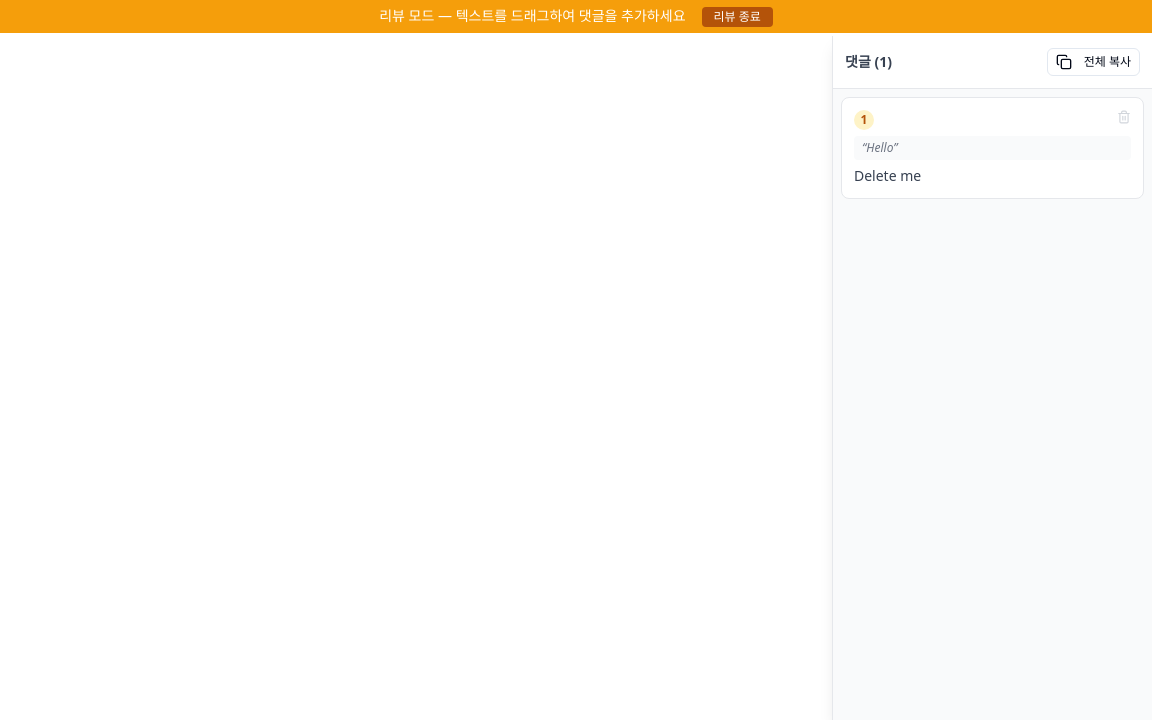
Test: AdminCommentSystem › deletes a comment when trash icon is clicked
Expected: the text "Delete me" is shown, [854,166,921,185]
Click the 3rd button: coordinates (1124, 117) [1117,110,1131,124]
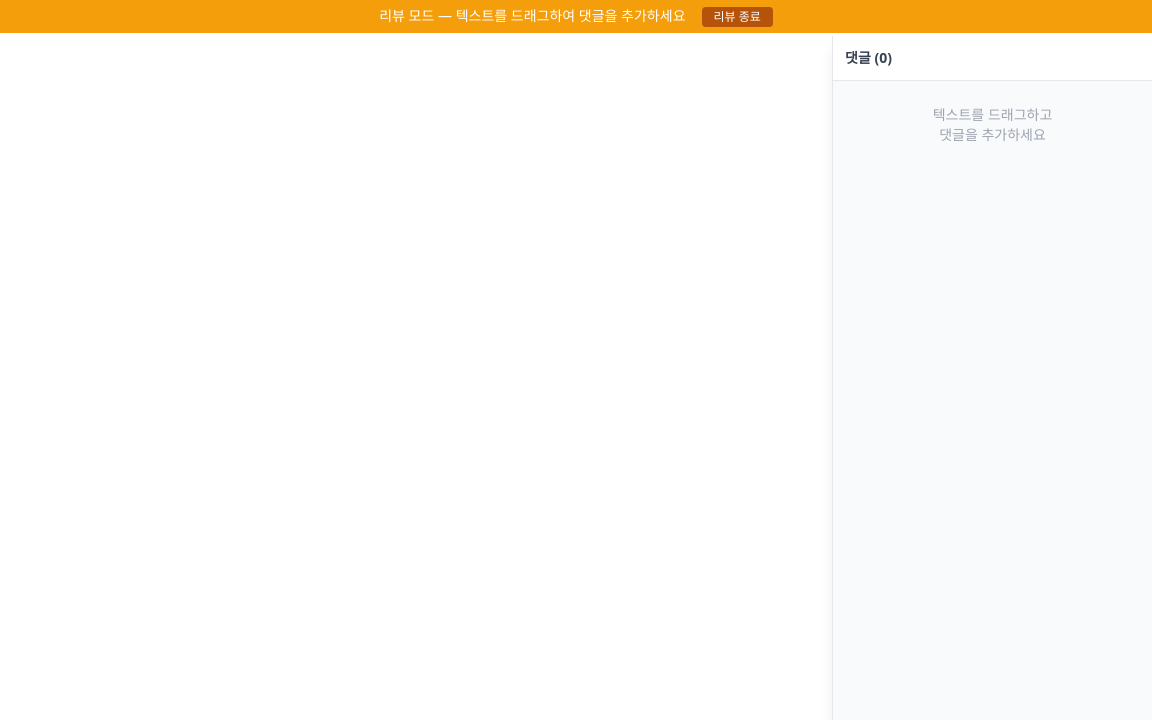
Now the text "Delete me" is gone
Now the heading "댓글 (0)" is shown, box [845,48,892,68]
